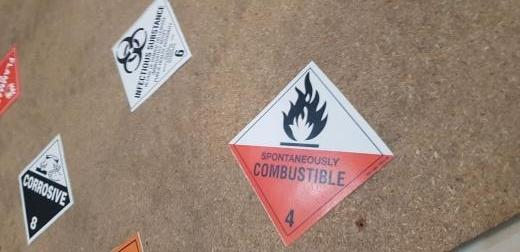corrosive: (15, 133, 81, 247)
flammable: (1, 41, 22, 120)
infectious-substance: (109, 1, 195, 113)
spontaneously-combustible: (229, 60, 399, 250)
